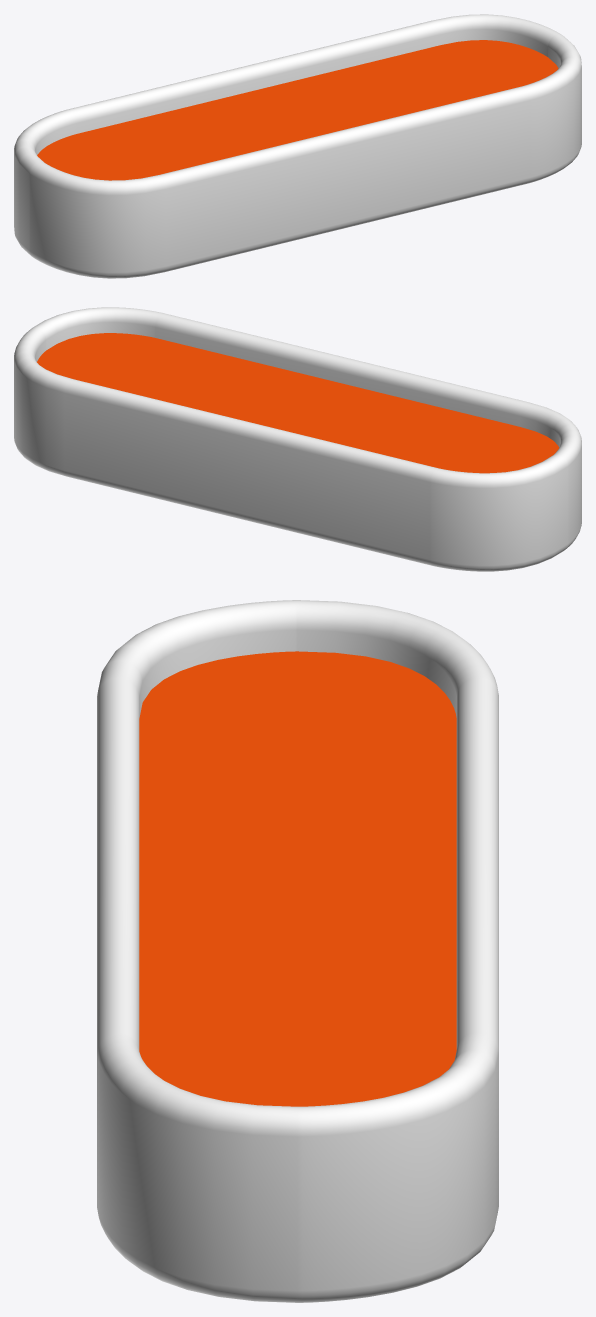
The model's file is Paddle-3.dae.
The picture shows the model from 3 angles, top to bottom: view 1: azimuth 30°, elevation 25°; view 2: azimuth 150°, elevation 25°; view 3: azimuth 270°, elevation 25°; orthographic projection. The views are drawn at different scales.
Visible parts, largest first — view 1: Paddle; view 2: Paddle; view 3: Paddle.
Part boxes in pixels (left/top/right/bottom): Paddle: left=14, top=14, right=581, bottom=278; Paddle: left=14, top=307, right=581, bottom=571; Paddle: left=97, top=600, right=498, bottom=1302.
Bounding box in the file's own units: 0.2922 × 0.05 × 0.0946.
